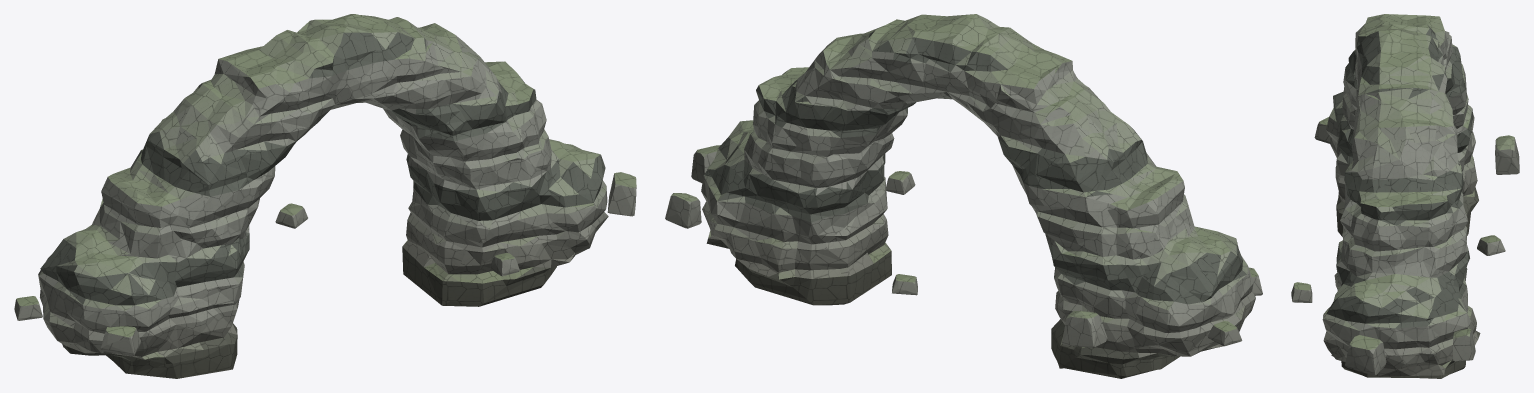
File: rock_arch_medium.glb
3 renders of one model, left to right at view 1: azimuth 30°, elevation 25°; view 2: azimuth 150°, elevation 25°; view 3: azimuth 270°, elevation 25°, orthographic. The views are drawn at different scales.
Visible parts, largest first — view 1: rock_arch_medium.001; view 2: rock_arch_medium.001; view 3: rock_arch_medium.001.
Part boxes in pixels (x1,y1,x2,y2): rock_arch_medium.001: (14, 14, 636, 378); rock_arch_medium.001: (665, 14, 1262, 378); rock_arch_medium.001: (1291, 14, 1519, 378).
Size of what is drawn, in the model's own units: 23.3 by 11.08 by 8.64.
2 materials, 2 textured.
